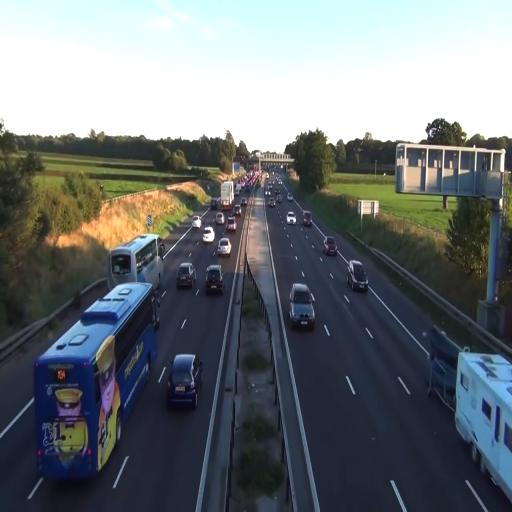vehicle: (34, 282, 155, 480), (453, 347, 512, 503), (107, 234, 165, 292), (166, 352, 202, 410), (288, 282, 316, 331), (347, 258, 368, 292), (204, 263, 224, 296), (176, 260, 197, 290), (220, 180, 234, 211), (323, 237, 338, 256), (218, 236, 231, 257), (202, 226, 216, 244), (302, 210, 312, 227), (286, 212, 296, 224)
